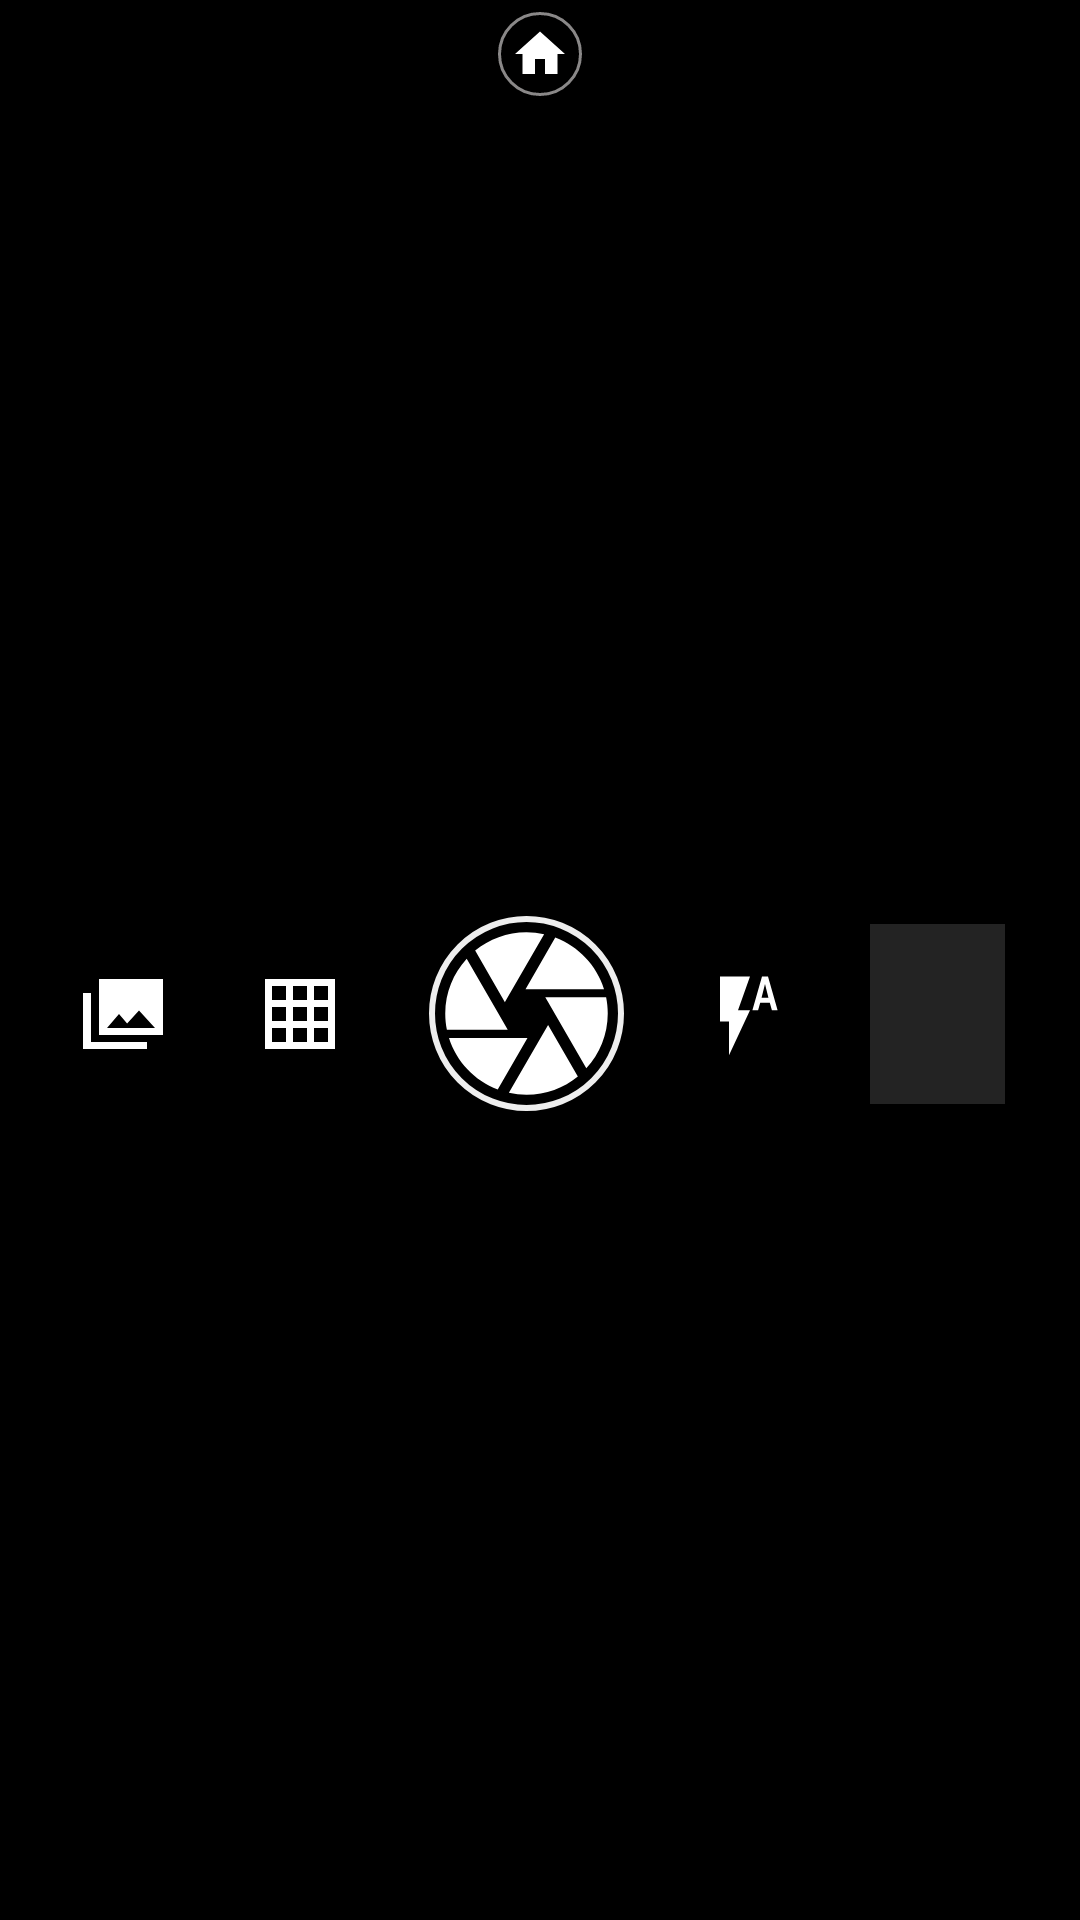

Screen size 1080w x 1920h. Icon name, then its center in pixels as (x=x, y=y):
camera cam act: (x=526, y=1013)
flash auto: (x=749, y=1015)
gallery cam act: (x=123, y=1014)
grid on cam act: (x=300, y=1014)
home cam act: (x=540, y=54)
